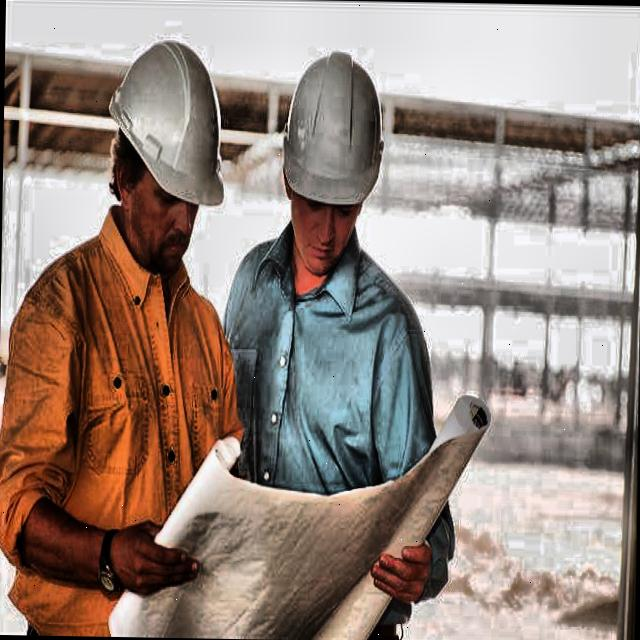helmet: (90, 24, 244, 290), (266, 34, 410, 293)
